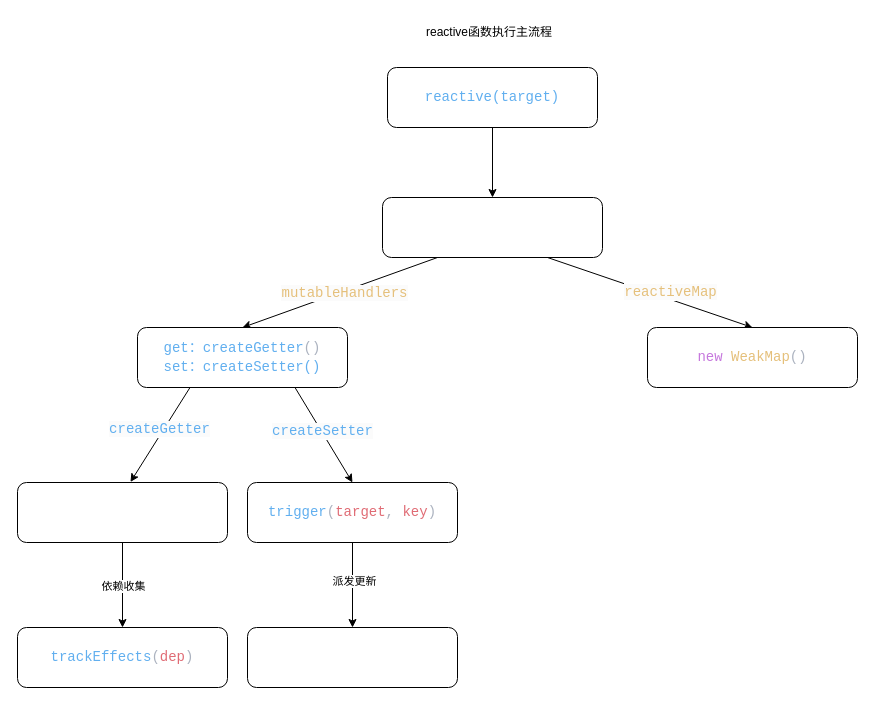
Image size: 875x705. Some labels were removed from this diagram. Here are the shapes that lost their labels. From the top down, the centre of each, then its label:
At point 492,227: "createReactiveObject ( target , mutableHandlers , reactiveMap )".
At point 122,512: "track ( target , key )".
At point 352,657: "triggerEffects ( dep )".
